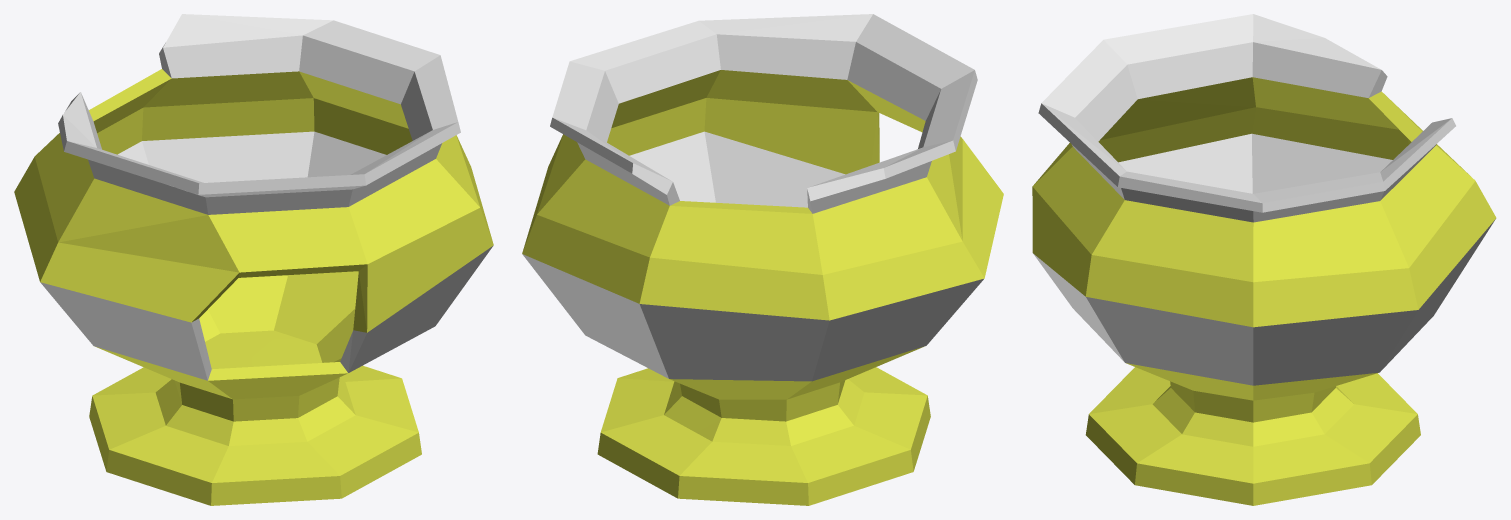
The model's file is Vase_S_3.fbx.
3 views of the same model, side by side, from view 1: azimuth 30°, elevation 25°; view 2: azimuth 150°, elevation 25°; view 3: azimuth 270°, elevation 25° (orthographic). The views are drawn at different scales.
Visible parts, largest first — view 1: Vase_S_3; view 2: Vase_S_3; view 3: Vase_S_3.
Boxes of the visible parts, left/top/right/bottom form: Vase_S_3: left=14, top=14, right=493, bottom=505; Vase_S_3: left=522, top=14, right=1003, bottom=505; Vase_S_3: left=1032, top=14, right=1496, bottom=505.
Bounding box in the file's own units: 0.2215 × 0.1666 × 0.2111.
